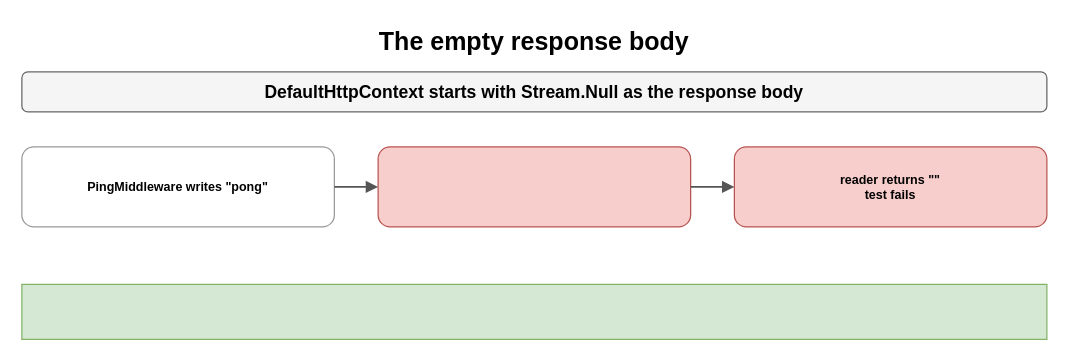
This 1069x361 diagram has some shape labels left out. The box of each missing label's shape, as (x1, y1, x2, y2) in pixels:
fix: context.Response.Body = new MemoryStream() before calling the middleware: (21, 283, 1047, 339)
Stream.Null discards it (Position = 0 does nothing): (377, 146, 691, 227)
